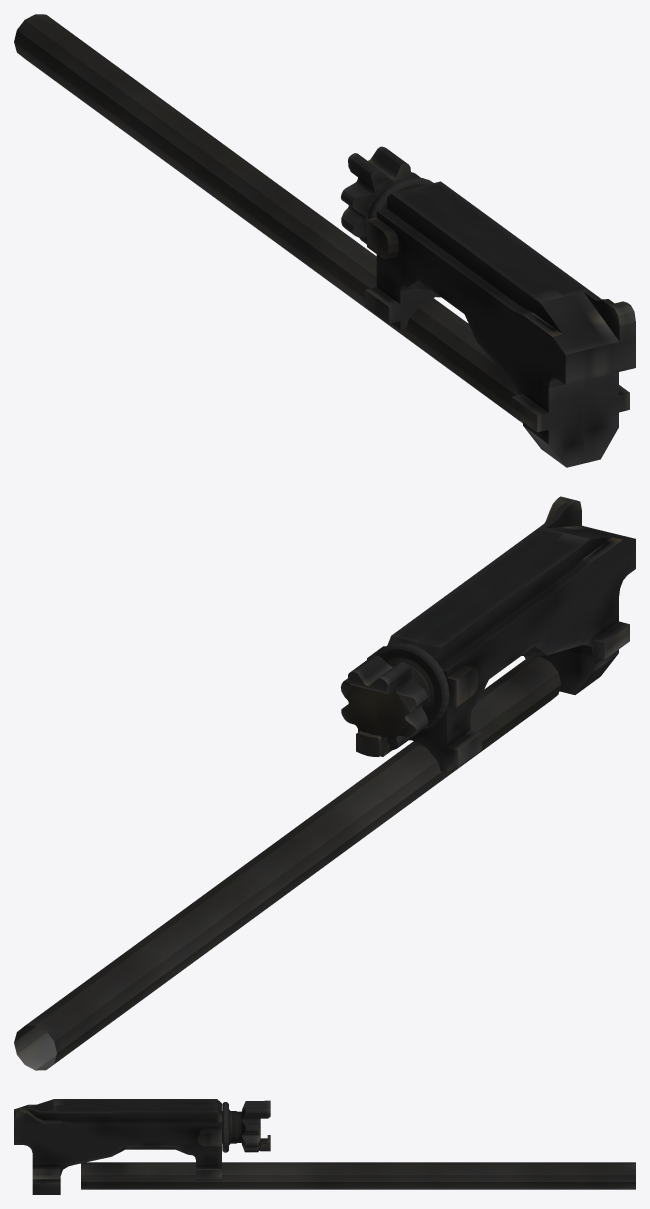
The picture shows the model from 3 angles, top to bottom: view 1: azimuth 30°, elevation 25°; view 2: azimuth 150°, elevation 25°; view 3: azimuth 270°, elevation 25°; orthographic projection. The views are drawn at different scales.
Parts seen in each view (by area): view 1: TW_5c488a752e221602b412af63_PZ_Import; view 2: TW_5c488a752e221602b412af63_PZ_Import; view 3: TW_5c488a752e221602b412af63_PZ_Import.
Boxes of the visible parts, <box> form: TW_5c488a752e221602b412af63_PZ_Import: <box>14,14,635,467</box>; TW_5c488a752e221602b412af63_PZ_Import: <box>14,496,635,1070</box>; TW_5c488a752e221602b412af63_PZ_Import: <box>14,1099,635,1194</box>.
Bounding box in the file's own units: 0.0143 × 0.1509 × 0.0234.
Materials: 1 (1 with a texture image).
